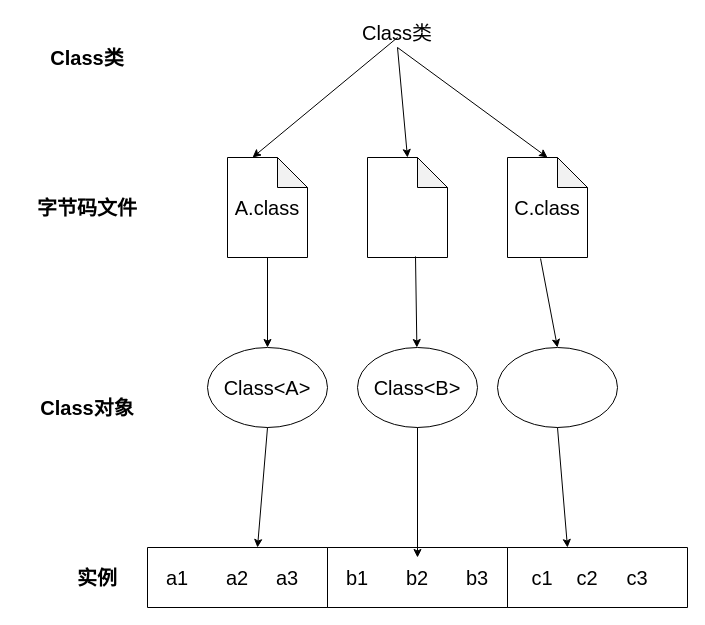
The diagram is 705 pixels wide and 625 high, and some of its shapes have lost their labels. The centre of each missing label's shape, as x and y in pixels:
B.class: pixel 407 207
Class<C>: pixel 557 387
